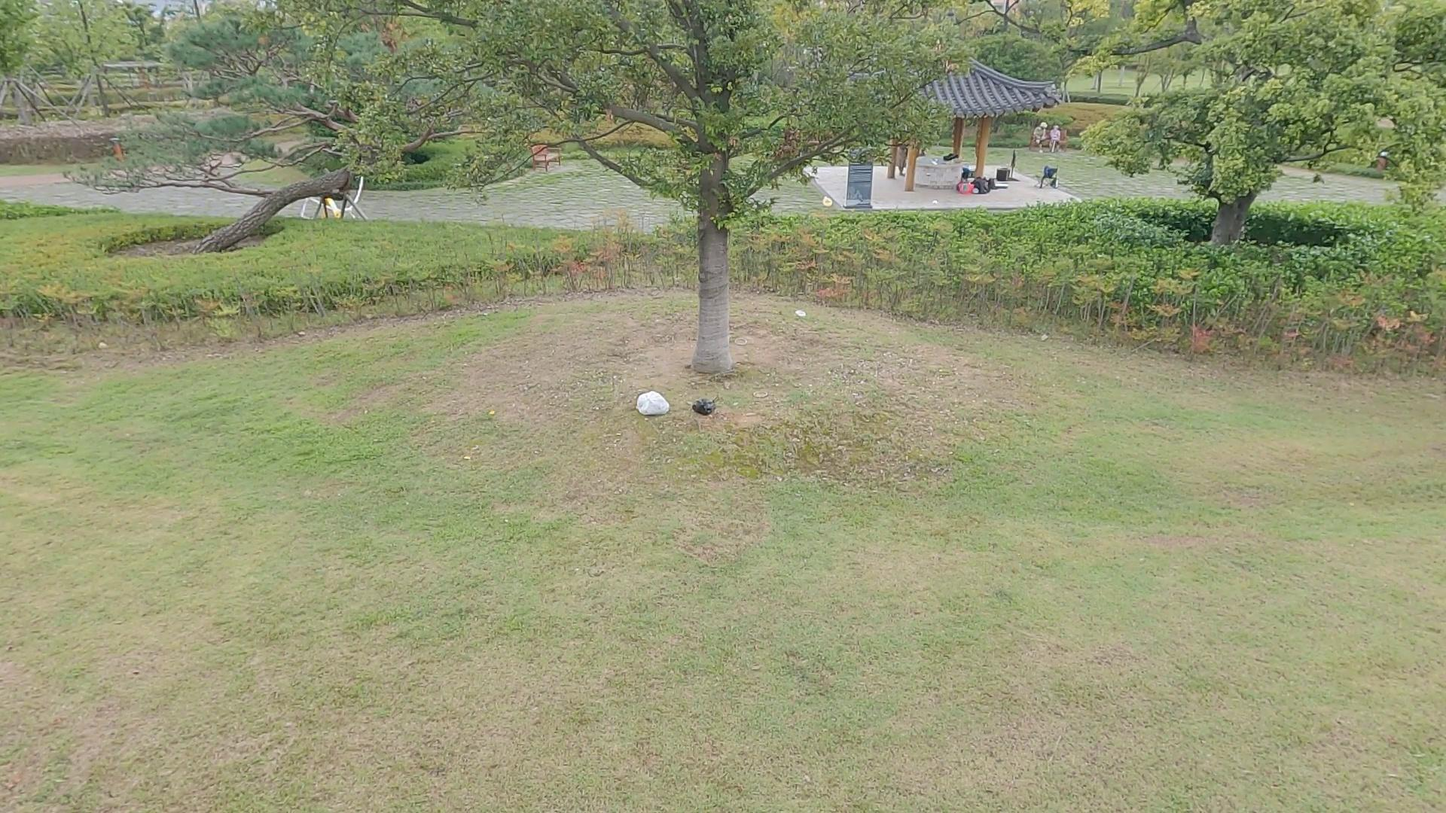person: (1035, 121, 1047, 153), (1050, 124, 1060, 153)
trash: (636, 390, 670, 417), (692, 397, 716, 416), (796, 308, 807, 318)
